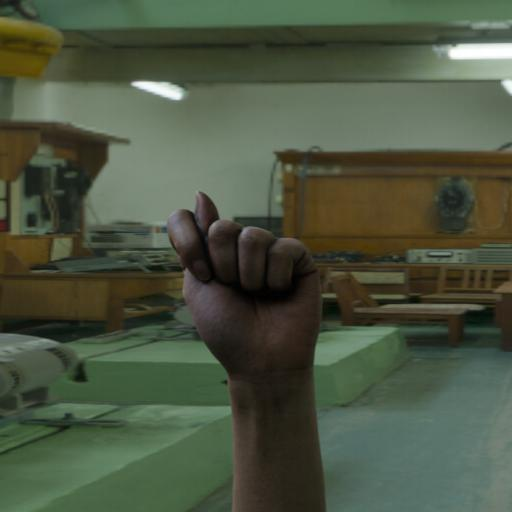T: (164, 188, 325, 373)
